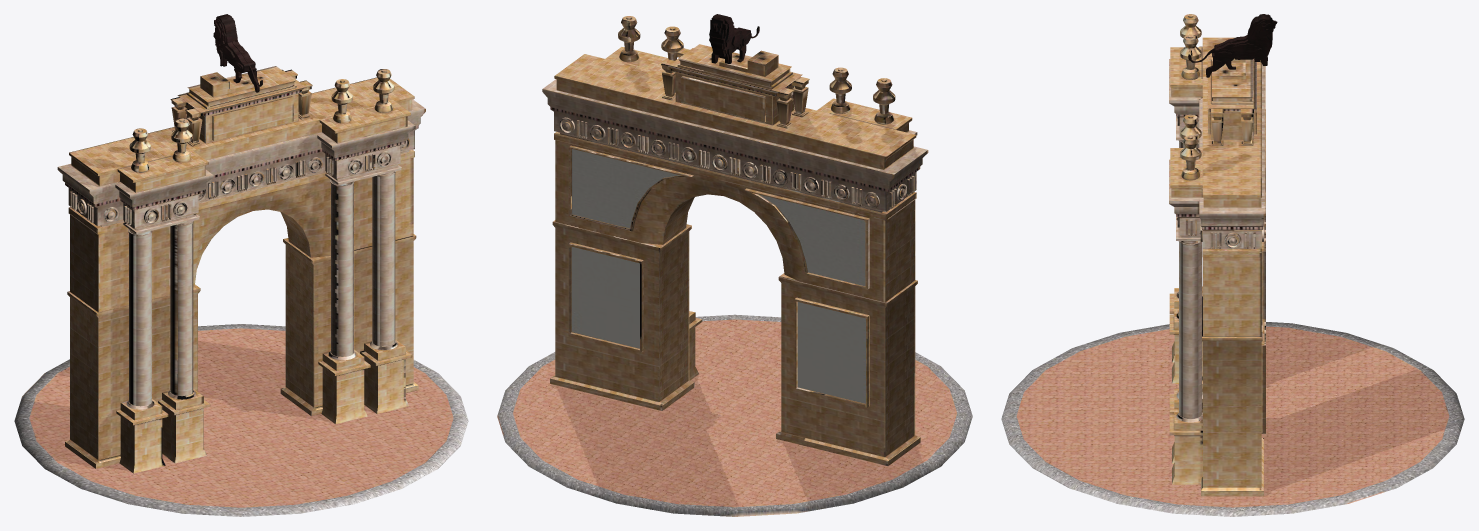
Rendered from arco.gltf.
The picture shows the model from 3 angles, left to right: view 1: azimuth 30°, elevation 25°; view 2: azimuth 150°, elevation 25°; view 3: azimuth 270°, elevation 25°; orthographic projection. The views are drawn at different scales.
Parts seen in each view (by area): view 1: OG_BaseArco, OG_BaseLeon; view 2: OG_BaseArco, OG_BaseLeon; view 3: OG_BaseArco, OG_BaseLeon.
Part boxes in pixels (<box>): OG_BaseArco: <box>14,66,468,516</box>; OG_BaseLeon: <box>213,14,262,92</box>; OG_BaseArco: <box>497,16,972,516</box>; OG_BaseLeon: <box>709,14,759,63</box>; OG_BaseArco: <box>1001,14,1464,516</box>; OG_BaseLeon: <box>1188,14,1277,77</box>.
Bounding box in the file's own units: 412 × 394 × 412.
2 materials, 2 textured.
